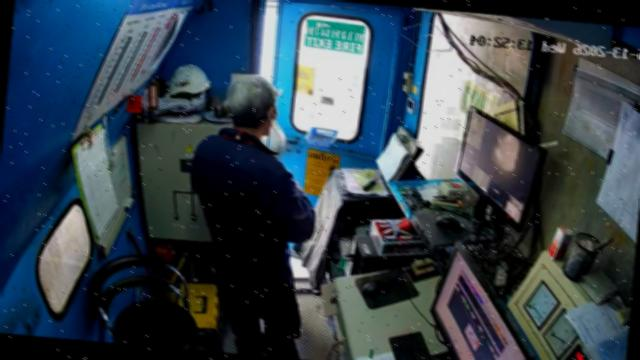Head: (223, 75, 278, 137)
People: (189, 75, 316, 358)
